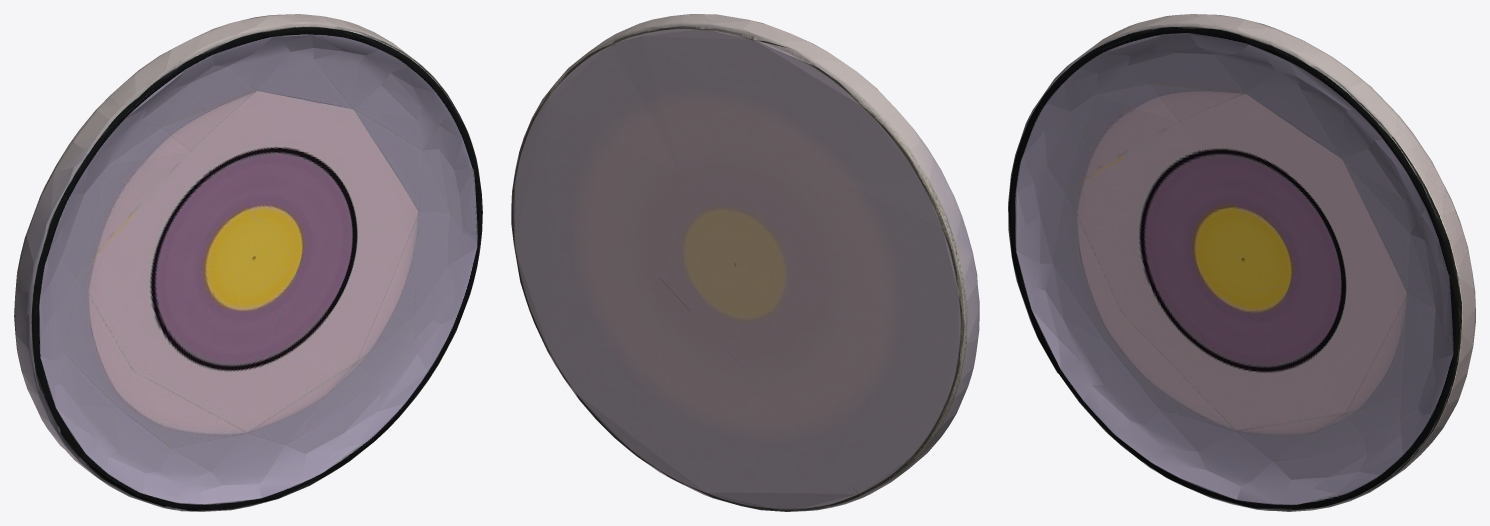
Rendered from target.glb.
The picture shows the model from 3 angles, left to right: view 1: azimuth 30°, elevation 25°; view 2: azimuth 150°, elevation 25°; view 3: azimuth 330°, elevation 25°; orthographic projection.
Parts seen in each view (by area): view 1: mesh_node; view 2: mesh_node; view 3: mesh_node.
Boxes of the visible parts, left/top/right/bottom form: mesh_node: left=14, top=14, right=482, bottom=511; mesh_node: left=511, top=14, right=979, bottom=511; mesh_node: left=1008, top=14, right=1475, bottom=511.
Bounding box in the file's own units: 1.9 × 1.9 × 0.1335.
Materials: 1 (1 with a texture image).
